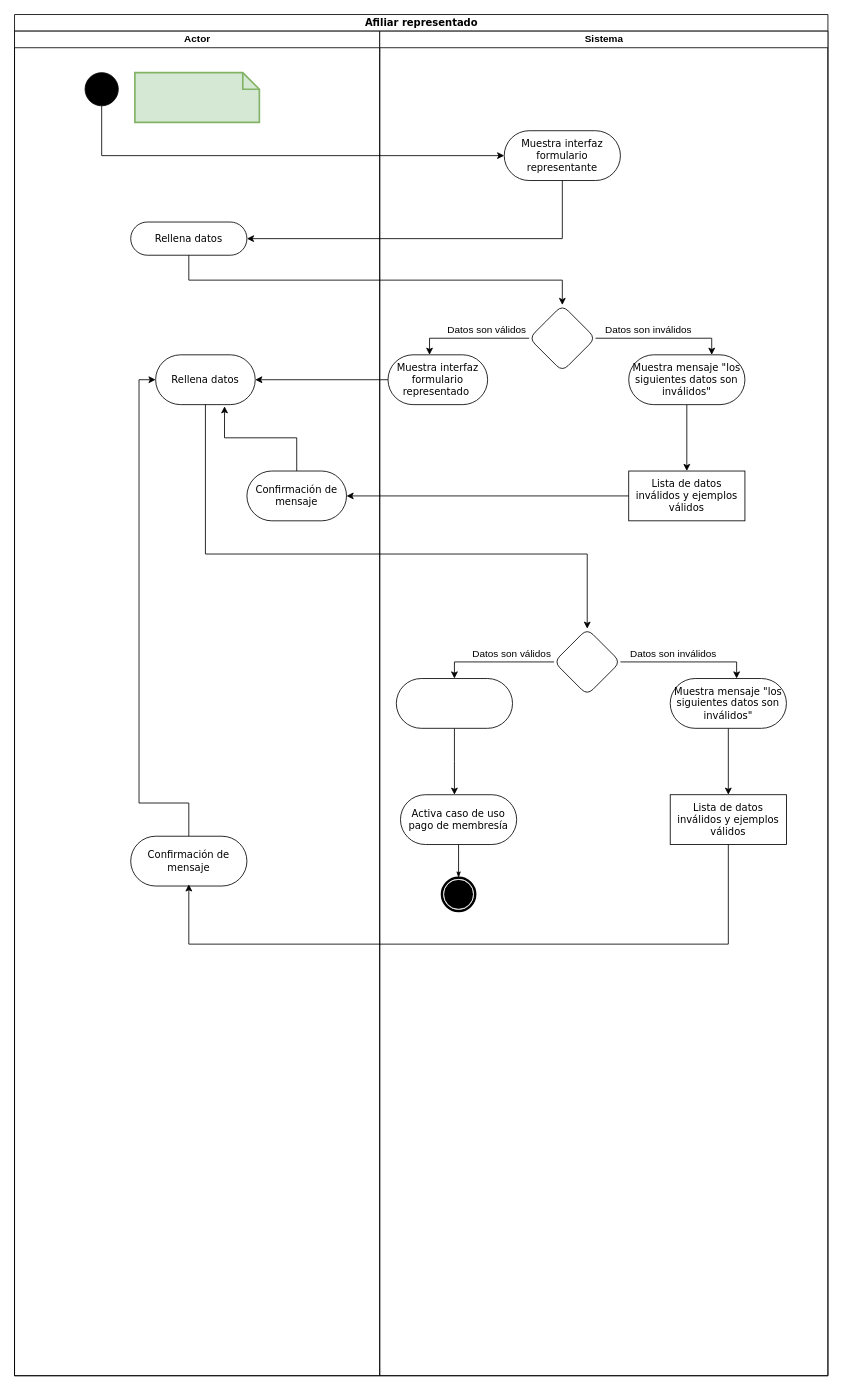
This 842x1390 diagram has some shape labels left out. The centre of each missing label's shape, as x and y in pixels:
Activa caso de uso autorizar representado: (x=454, y=703)
Este proceso extiende de "Afiliarse a club de lectura": (x=197, y=97)
